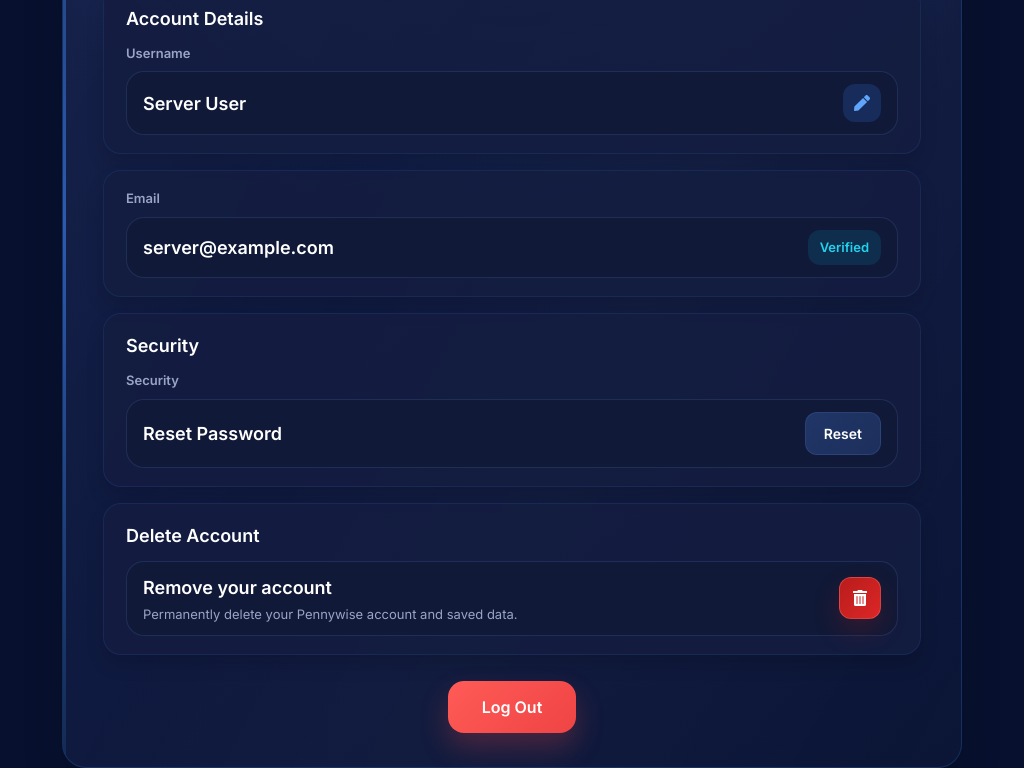
Test: Profile page › shows validation when new password confirmation does not match
This screenshot has width=1024, height=768.
(page scrolled)
Step 1. Click the button "Reset" → (843, 433), box [805,412,881,454]
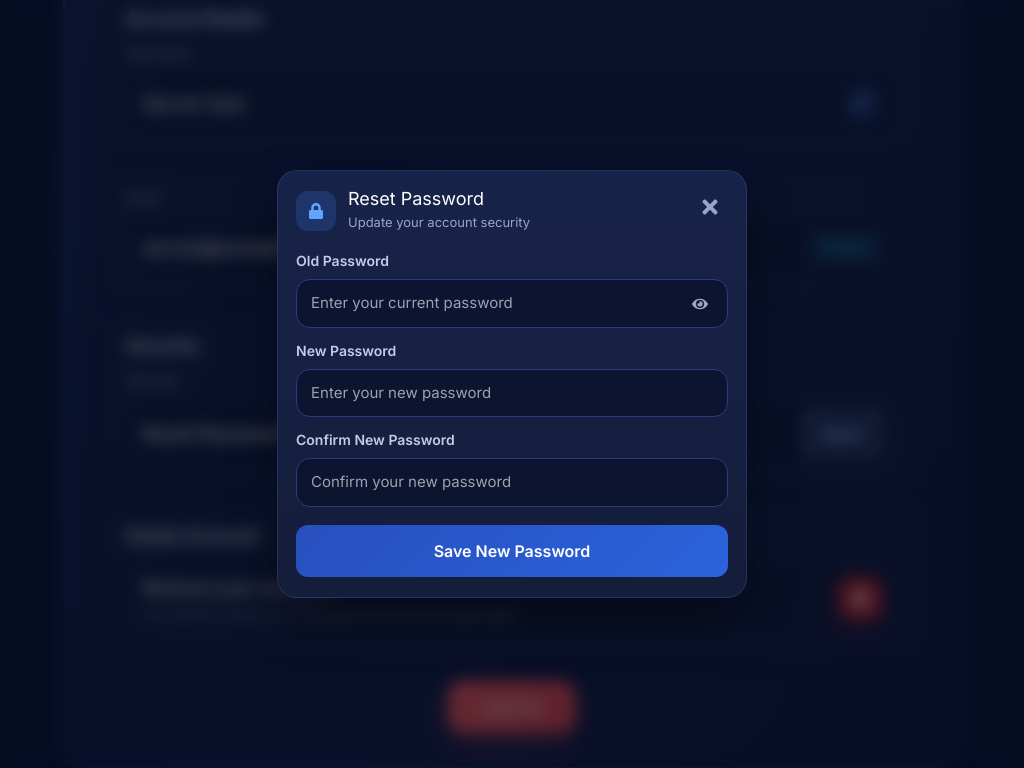
Step 2. Type "old-password" into the password field labelled "Old Password" → (512, 304), box [296,279,728,328]
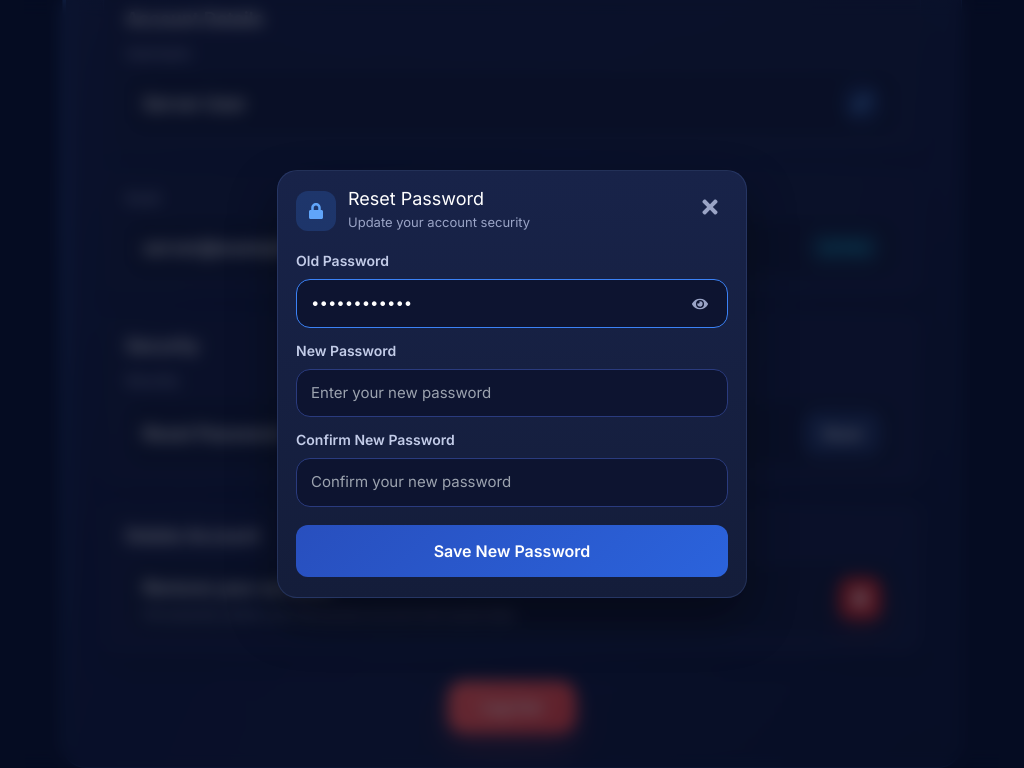
Step 3. Type "new-password" into the password field labelled "New Password" → (512, 393), box [296,369,728,417]
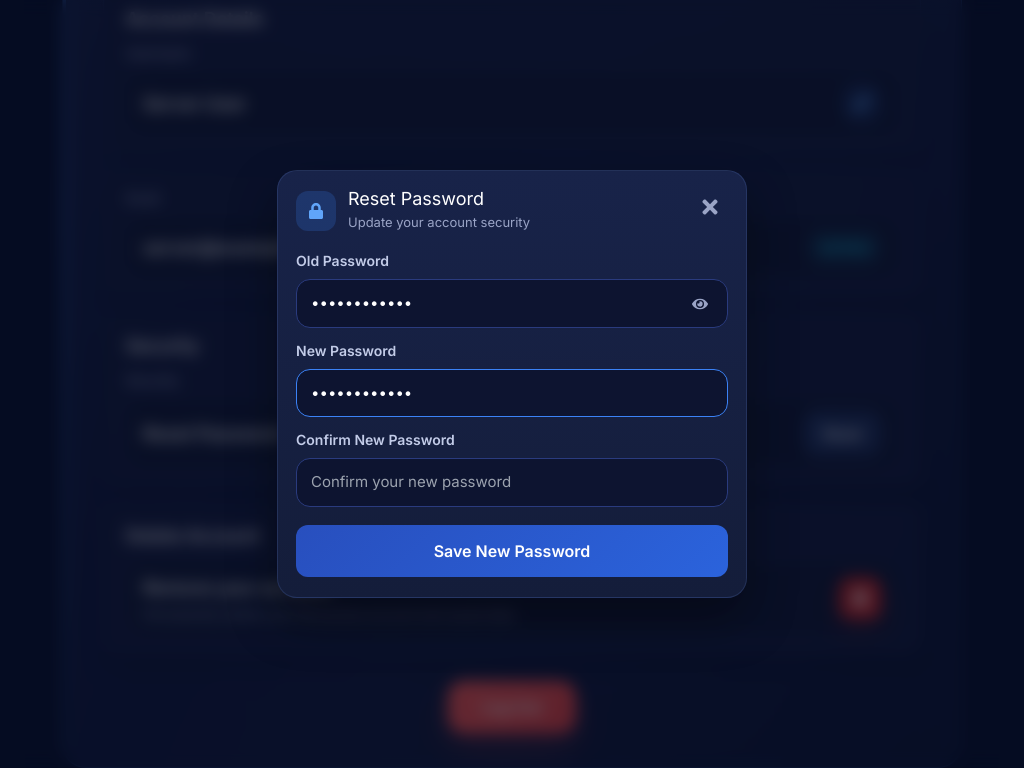
Step 4. Type "different-password" into the password field labelled "Confirm New Password" → (512, 483), box [296,458,728,507]
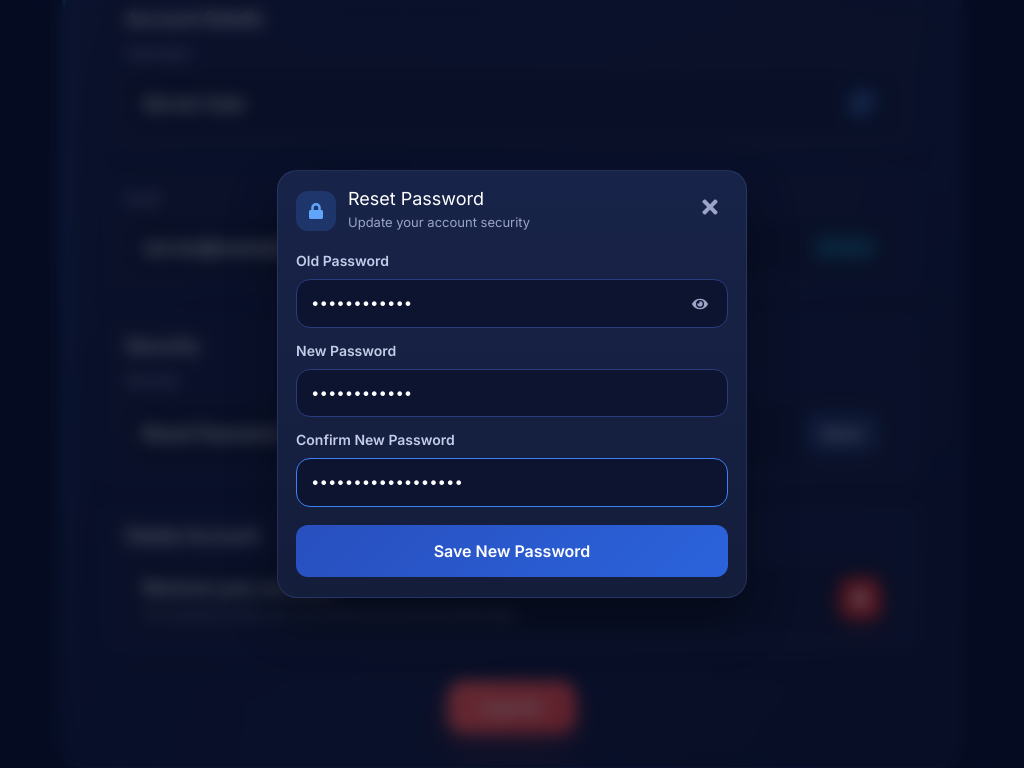
Step 5. Click the button "Save New Password" → (512, 551), box [296,525,728,577]
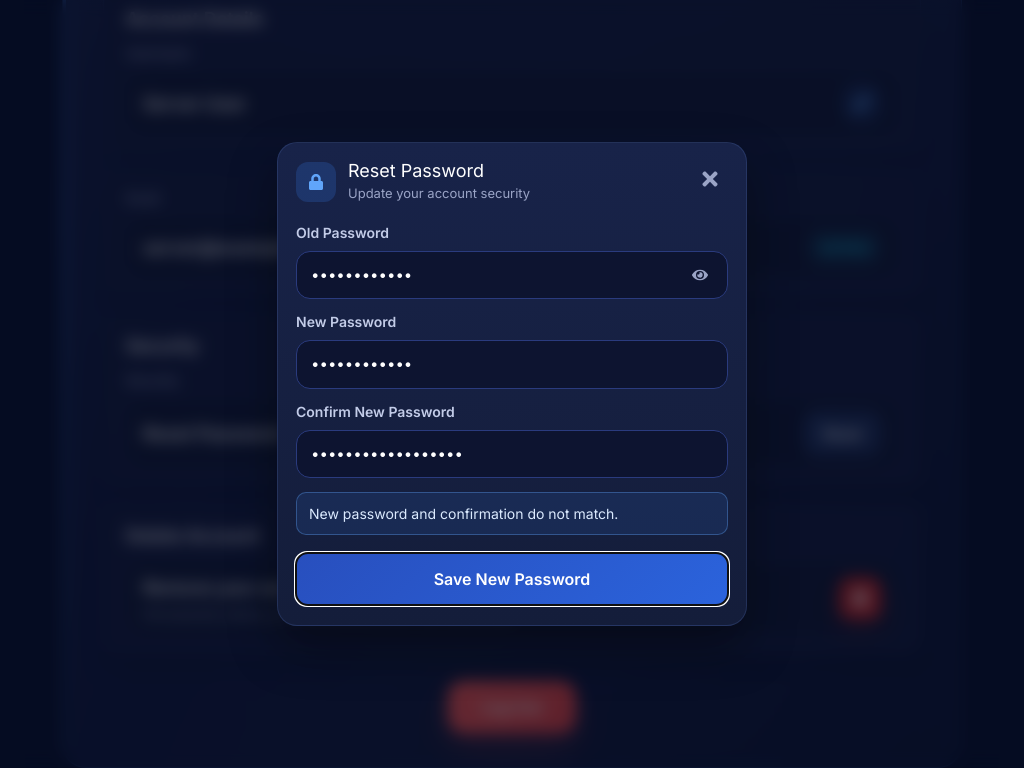
Expected: the text "New password and confirmation do not match." is shown, [296,492,728,535]
